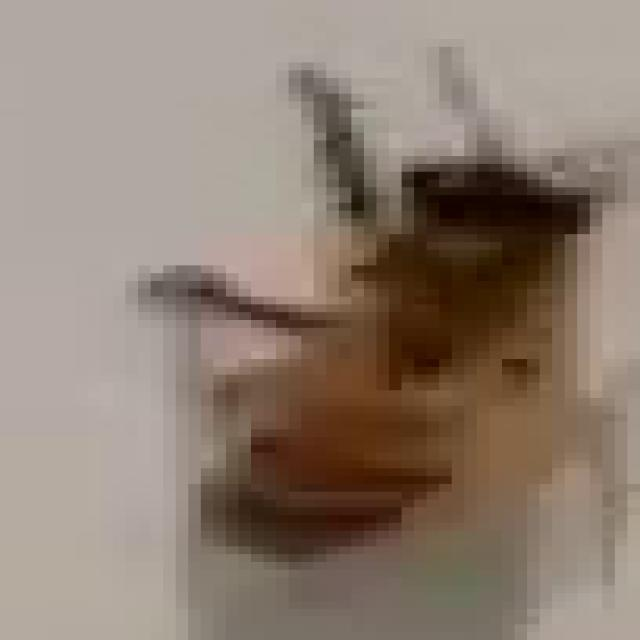honeybee: (166, 74, 610, 606)
